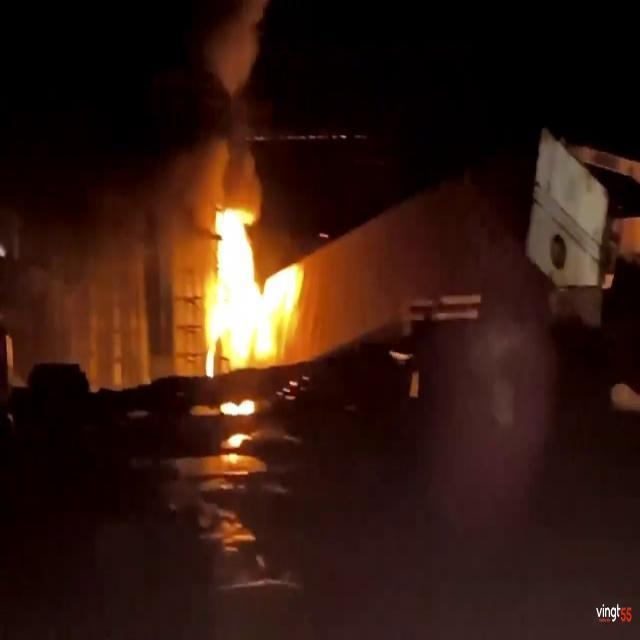Fire: (192, 196, 306, 370)
Smoke: (162, 0, 274, 248)
